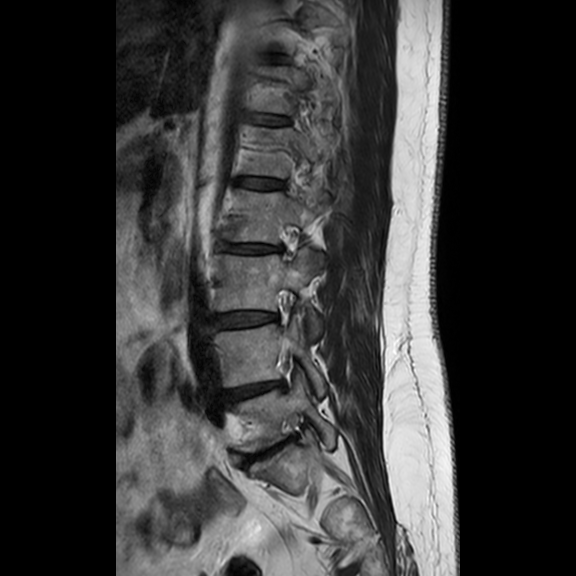RFS0: (264, 213, 306, 271), (263, 279, 305, 333)
RFS3: (272, 399, 319, 459)
